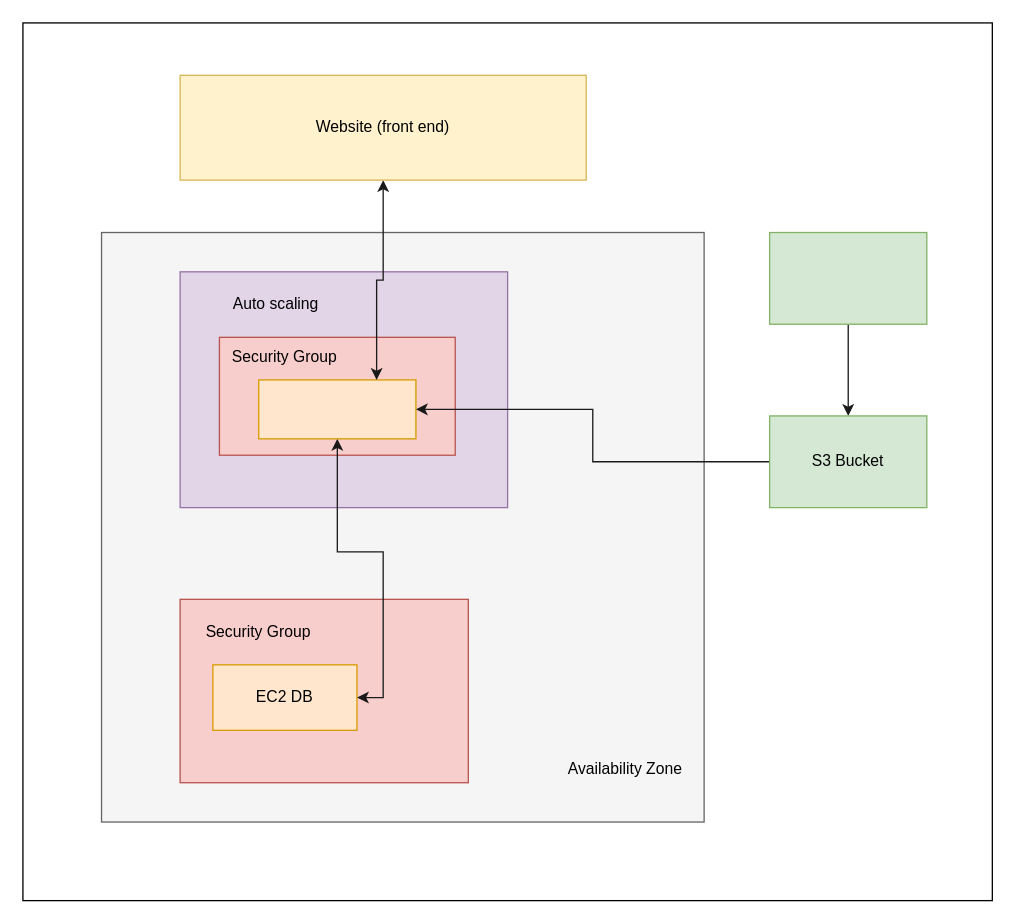
The diagram is 1015 pixels wide and 924 high, and some of its shapes have lost their labels. Each missing label, with the centre of its shape:
"Cloudfront (CDN)" goes at (x=847, y=277).
"EC2 App" goes at (x=336, y=409).
